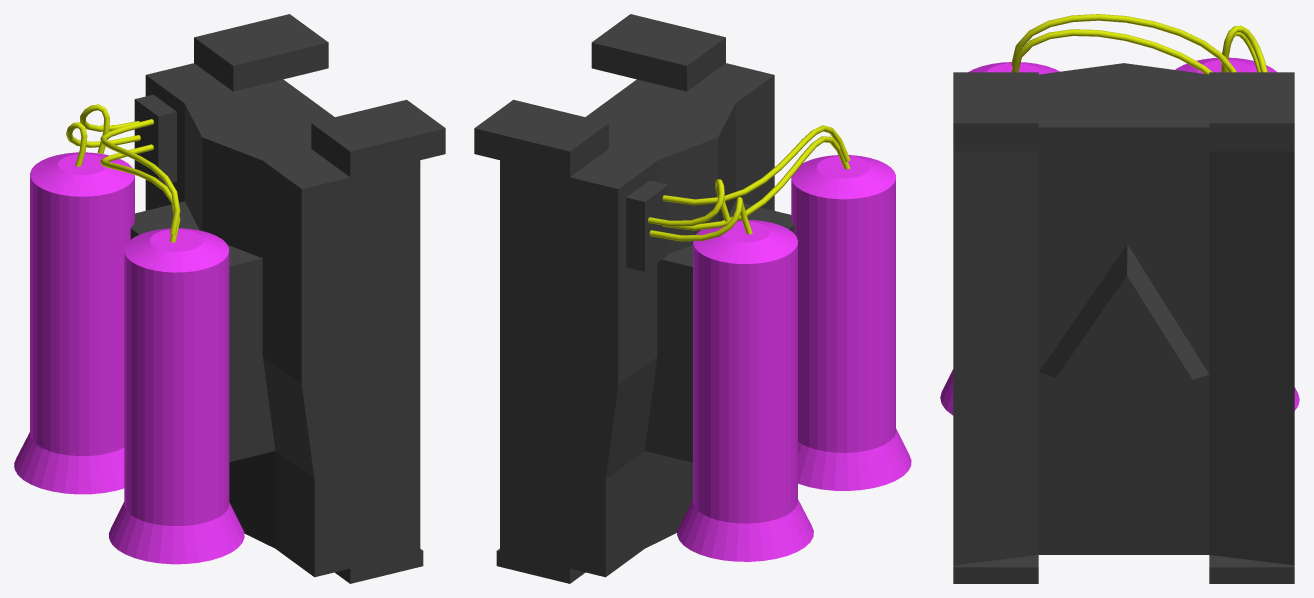
File: JumpPack.fbx
3 renders of one model, left to right at view 1: azimuth 30°, elevation 25°; view 2: azimuth 150°, elevation 25°; view 3: azimuth 270°, elevation 25°, orthographic. The views are drawn at different scales.
Parts seen in each view (by area): view 1: PackBase, JETS, WIRES; view 2: PackBase, JETS, WIRES; view 3: PackBase, WIRES, JETS.
Part boxes in pixels (<box>): PackBase: <box>130,14,445,583</box>; JETS: <box>14,152,244,564</box>; WIRES: <box>66,104,180,242</box>; PackBase: <box>474,14,794,583</box>; JETS: <box>677,155,911,561</box>; WIRES: <box>648,125,850,241</box>; PackBase: <box>953,63,1294,583</box>; WIRES: <box>1011,14,1267,74</box>; JETS: <box>940,57,1299,415</box>.
Size of the model in its own units: 222 by 306 by 211.
